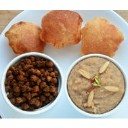poori: (82, 17, 124, 57), (42, 12, 81, 47), (6, 21, 45, 53)
